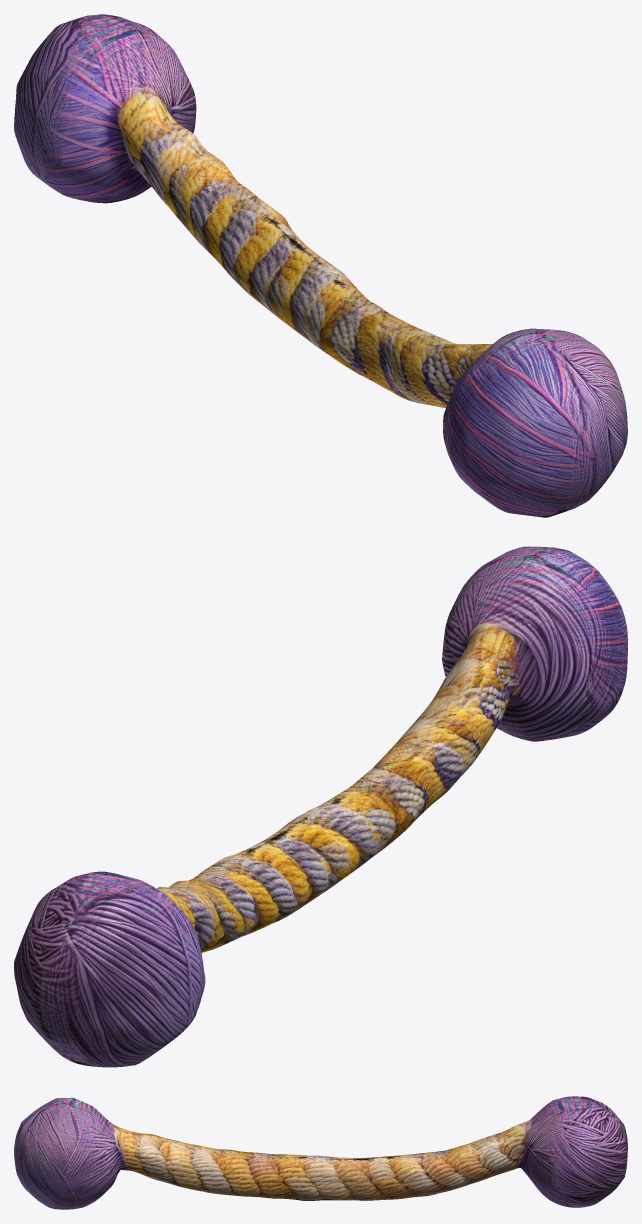
The model's file is Corda.fbx.
3 renders of one model, top to bottom at view 1: azimuth 30°, elevation 25°; view 2: azimuth 150°, elevation 25°; view 3: azimuth 270°, elevation 25°, orthographic. The views are drawn at different scales.
Parts seen in each view (by area): view 1: Mesh_0; view 2: Mesh_0; view 3: Mesh_0.
Boxes of the visible parts, <box> form: Mesh_0: <box>14,14,627,517</box>; Mesh_0: <box>14,546,627,1067</box>; Mesh_0: <box>14,1096,627,1209</box>.
Bounding box in the file's own units: 21.84 × 21.87 × 120.
Materials: 1 (1 with a texture image).
